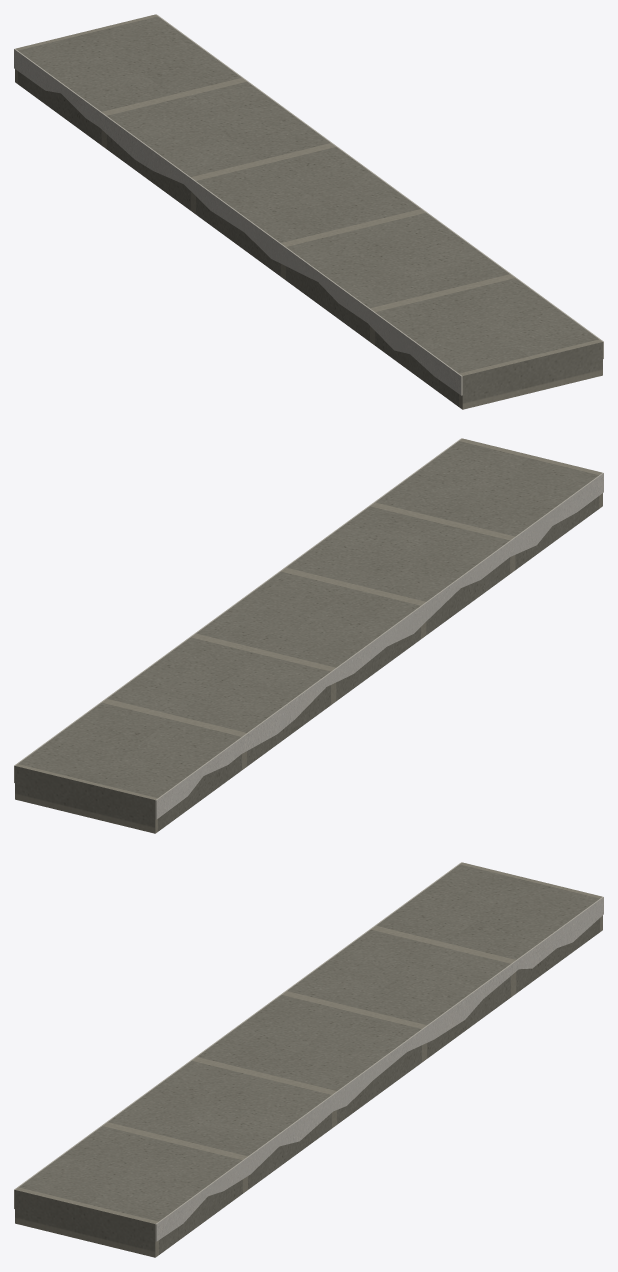
File: masonry_edge.glb
The picture shows the model from 3 angles, top to bottom: view 1: azimuth 30°, elevation 25°; view 2: azimuth 150°, elevation 25°; view 3: azimuth 330°, elevation 25°; orthographic projection.
Visible parts, largest first — view 1: ME01_masonry_edge_strip; view 2: ME01_masonry_edge_strip; view 3: ME01_masonry_edge_strip.
Part boxes in pixels (left/top/right/bottom): ME01_masonry_edge_strip: left=14, top=14, right=603, bottom=409; ME01_masonry_edge_strip: left=14, top=438, right=603, bottom=833; ME01_masonry_edge_strip: left=14, top=862, right=603, bottom=1257.
Bounding box in the file's own units: 0.184 × 0.0415 × 1.
3 materials, 2 textured.
